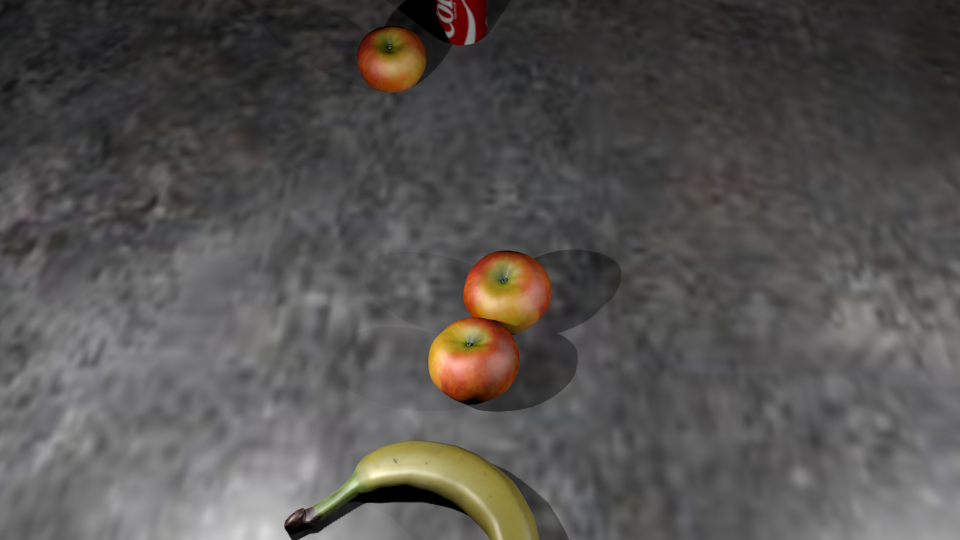apple: (429, 318, 520, 401), (464, 252, 552, 334), (358, 29, 426, 93), (753, 288, 832, 341), (1, 308, 56, 381), (380, 127, 453, 178)
banana: (193, 264, 440, 373), (284, 441, 540, 540), (322, 221, 569, 312), (113, 183, 310, 269), (1, 397, 130, 511), (413, 152, 605, 197), (647, 135, 772, 189)
cola_can: (437, 1, 486, 45)
orange: (129, 263, 241, 357), (110, 192, 183, 258), (82, 141, 154, 206), (237, 520, 318, 540)
